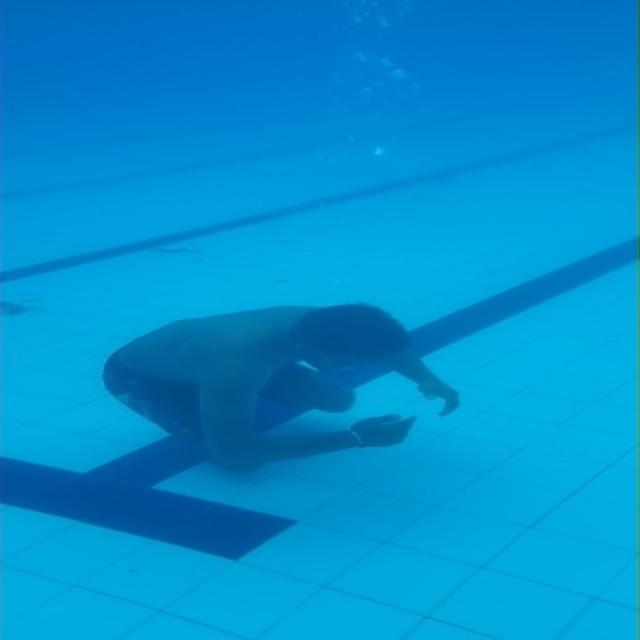Drowning: (101, 304, 459, 472)
